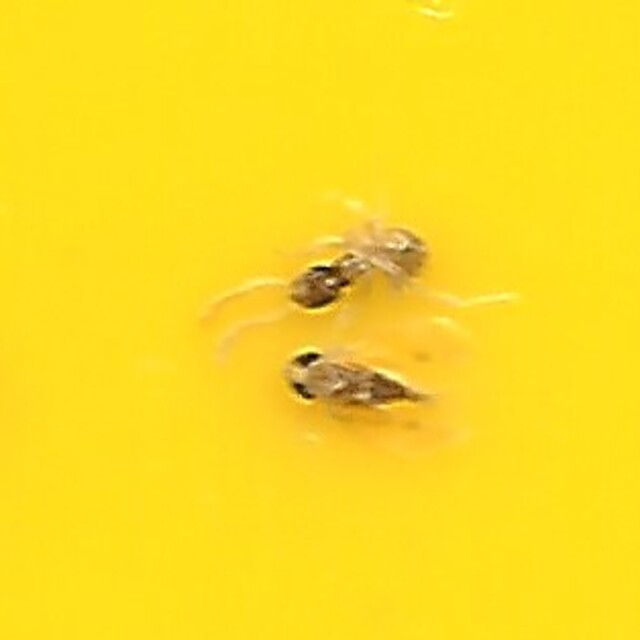Hemiptera: (281, 345, 432, 428)
Hymenoptera: (204, 212, 436, 335)
